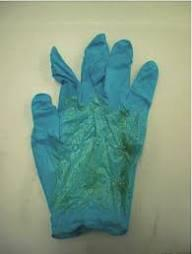Glove: (32, 34, 157, 237)
